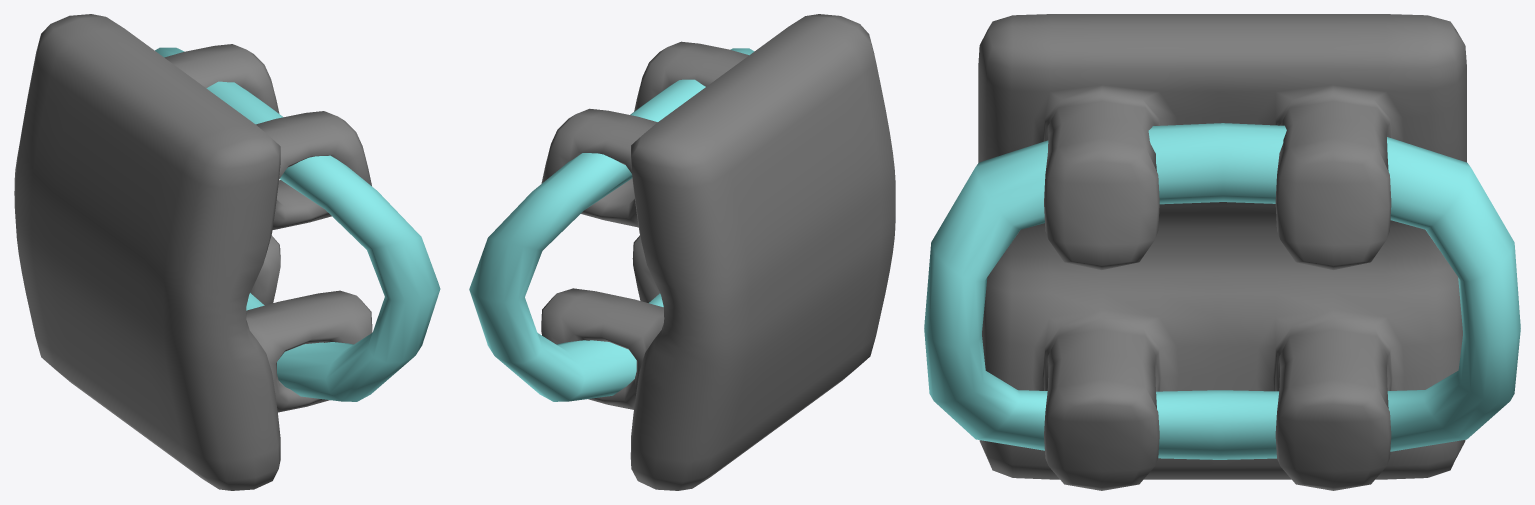
File: braket.fbx
The picture shows the model from 3 angles, left to right: view 1: azimuth 30°, elevation 25°; view 2: azimuth 150°, elevation 25°; view 3: azimuth 270°, elevation 25°; orthographic projection. The views are drawn at different scales.
Visible parts, largest first — view 1: Cube, Plane; view 2: Cube, Plane; view 3: Cube, Plane.
Boxes of the visible parts, <box> form: Cube: <box>14,14,372,490</box>; Plane: <box>155,47,440,401</box>; Cube: <box>541,14,895,490</box>; Plane: <box>469,48,754,401</box>; Cube: <box>978,14,1466,490</box>; Plane: <box>924,123,1520,459</box>.
Bounding box in the file's own units: 85.69 × 121 × 147.
